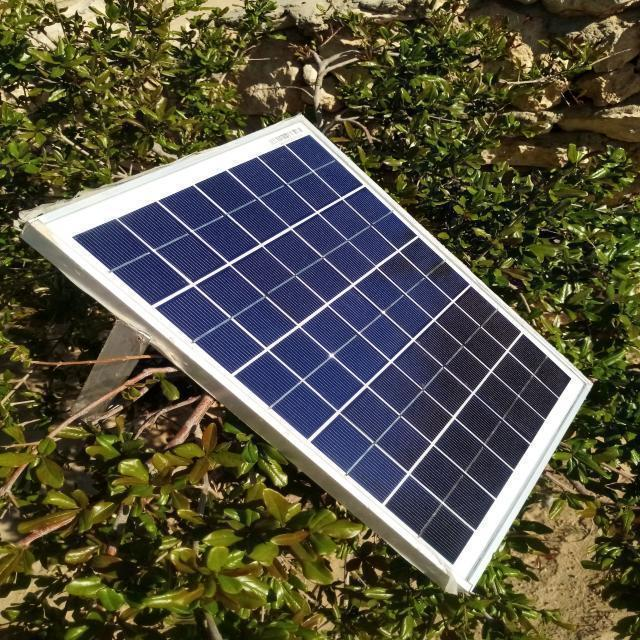Normal Solar Panel: (35, 115, 603, 592)
